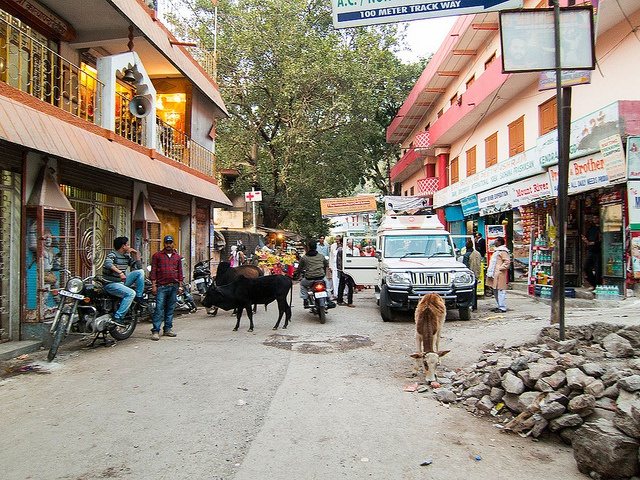non-vehicle: (46, 265, 154, 362), (141, 277, 196, 319), (304, 280, 336, 323), (193, 257, 213, 295), (287, 260, 300, 278)
